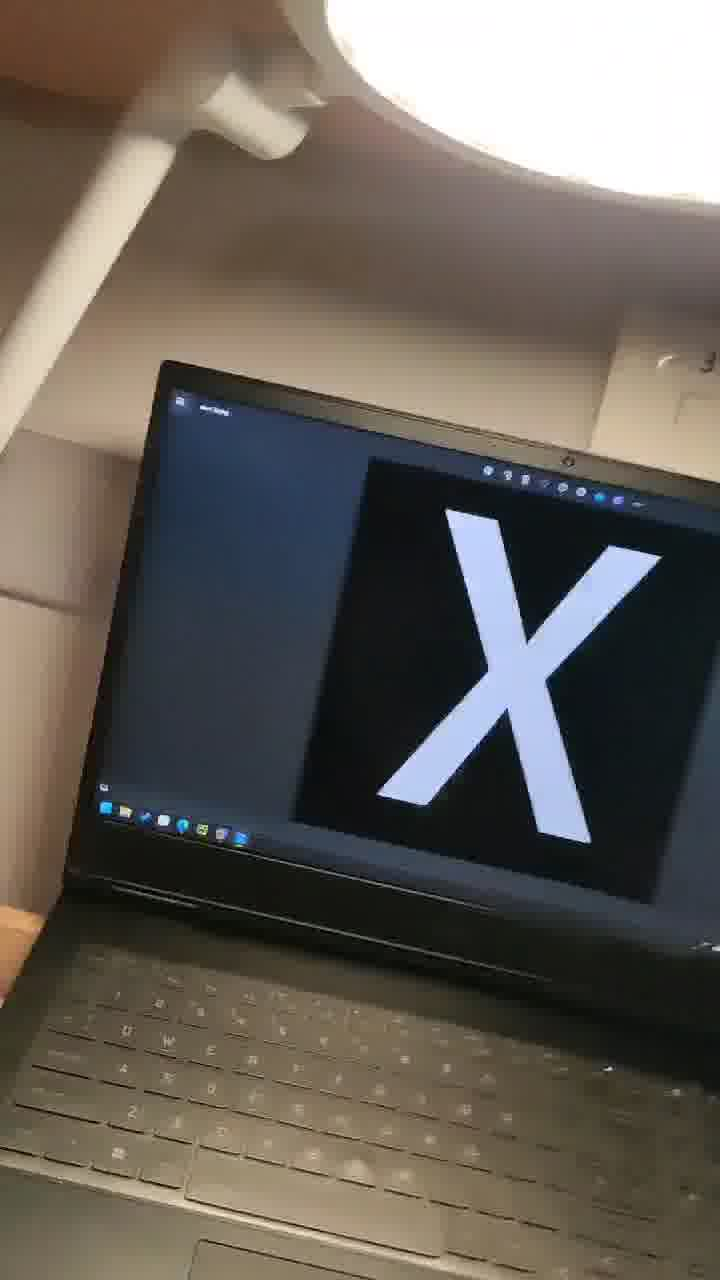X: (333, 467, 697, 918)
